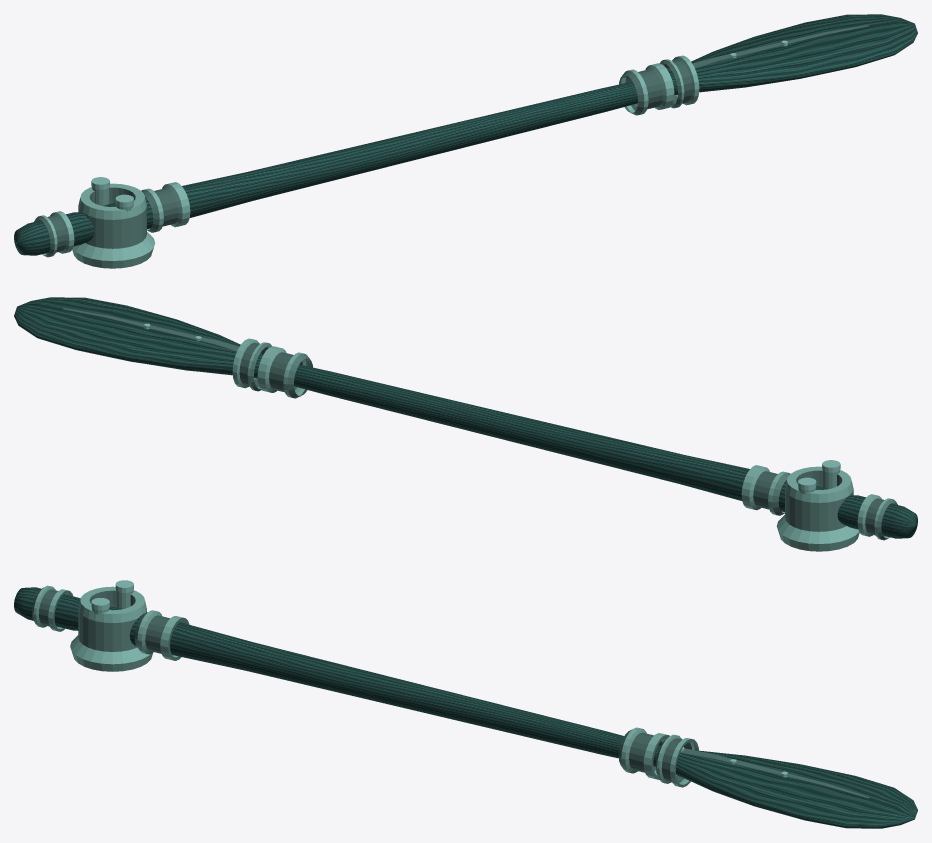
File: corsair-oar-haunted.glb
The picture shows the model from 3 angles, top to bottom: view 1: azimuth 30°, elevation 25°; view 2: azimuth 150°, elevation 25°; view 3: azimuth 330°, elevation 25°; orthographic projection.
Parts seen in each view (by area): view 1: Corsair_OarMoving, Corsair_Oarlock; view 2: Corsair_OarMoving, Corsair_Oarlock; view 3: Corsair_OarMoving, Corsair_Oarlock.
Boxes of the visible parts, <box> form: Corsair_OarMoving: <box>14,14,917,257</box>; Corsair_Oarlock: <box>72,177,155,268</box>; Corsair_OarMoving: <box>14,297,917,540</box>; Corsair_Oarlock: <box>776,460,859,551</box>; Corsair_OarMoving: <box>14,585,917,828</box>; Corsair_Oarlock: <box>70,580,152,671</box>.
Size of the model in its own units: 1.12 by 0.074 by 0.118.
2 materials, 1 textured.
